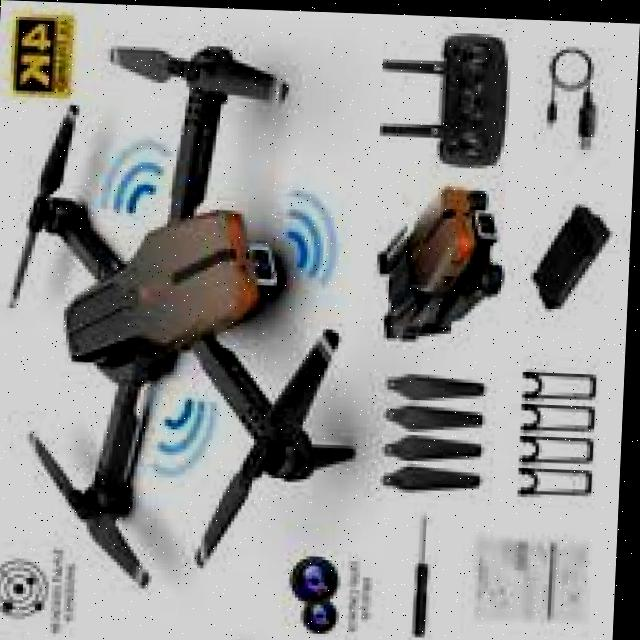drone: (5, 5, 383, 579)
